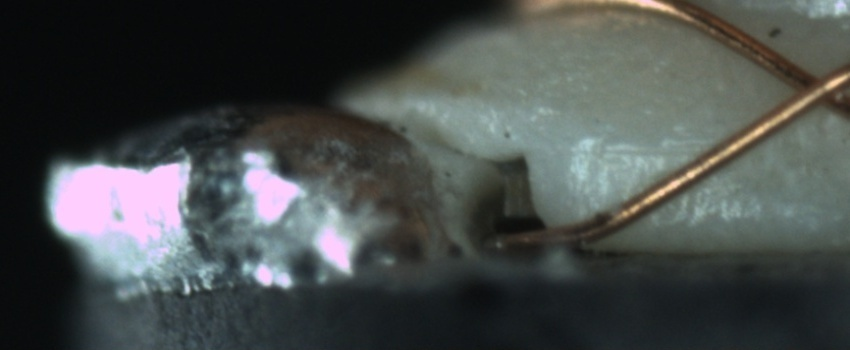CL: (770, 49, 847, 123)
DL: (574, 119, 722, 181)
